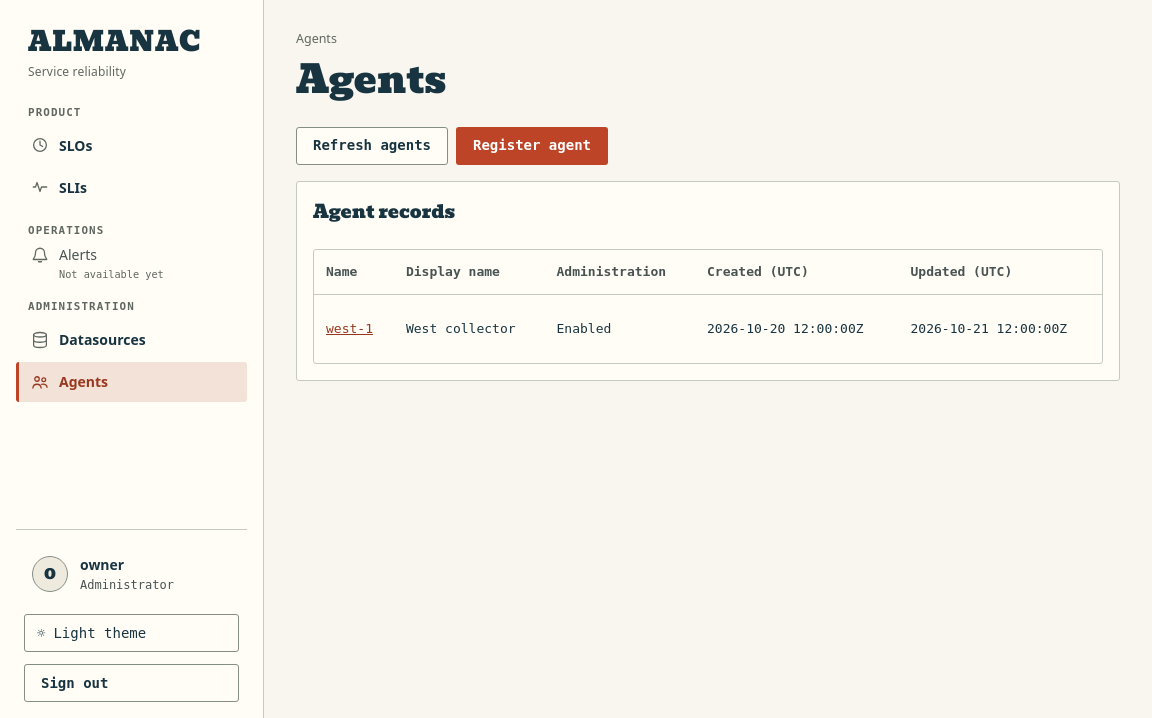
Scenario: agent administration screen › keeps known blockers visible when a later dependency page fails
Click the button "west-1" at (350, 329), box [326,307,373,351]
(page scrolled)
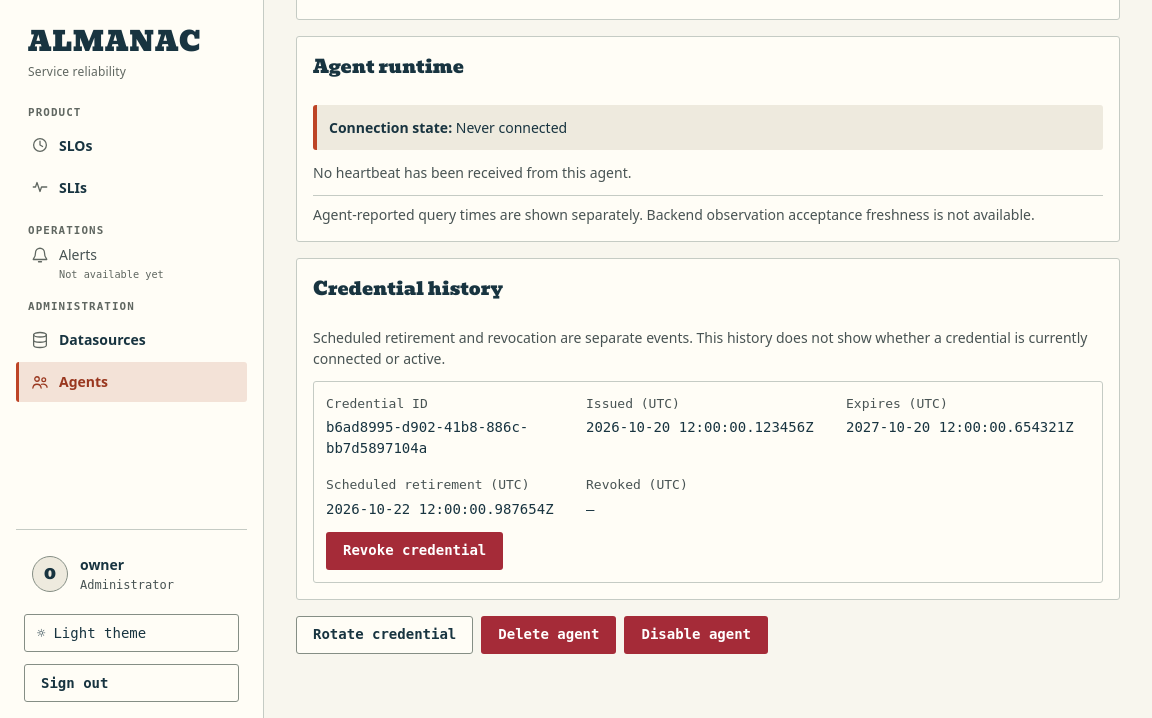
Click the button "Delete agent" at (549, 635), box [481,616,616,654]
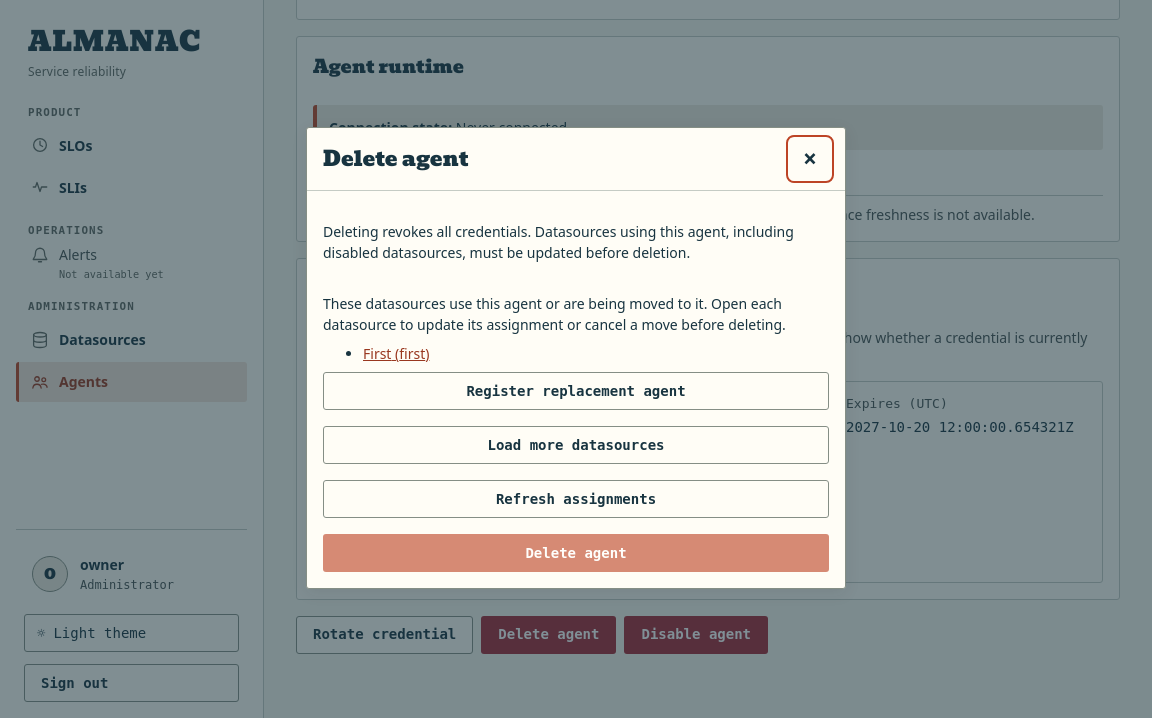
Now the link "First (first)" is shown, box [363,344,430,363]
Click the button "Load more datasources" at (576, 445), box [323,426,829,464]
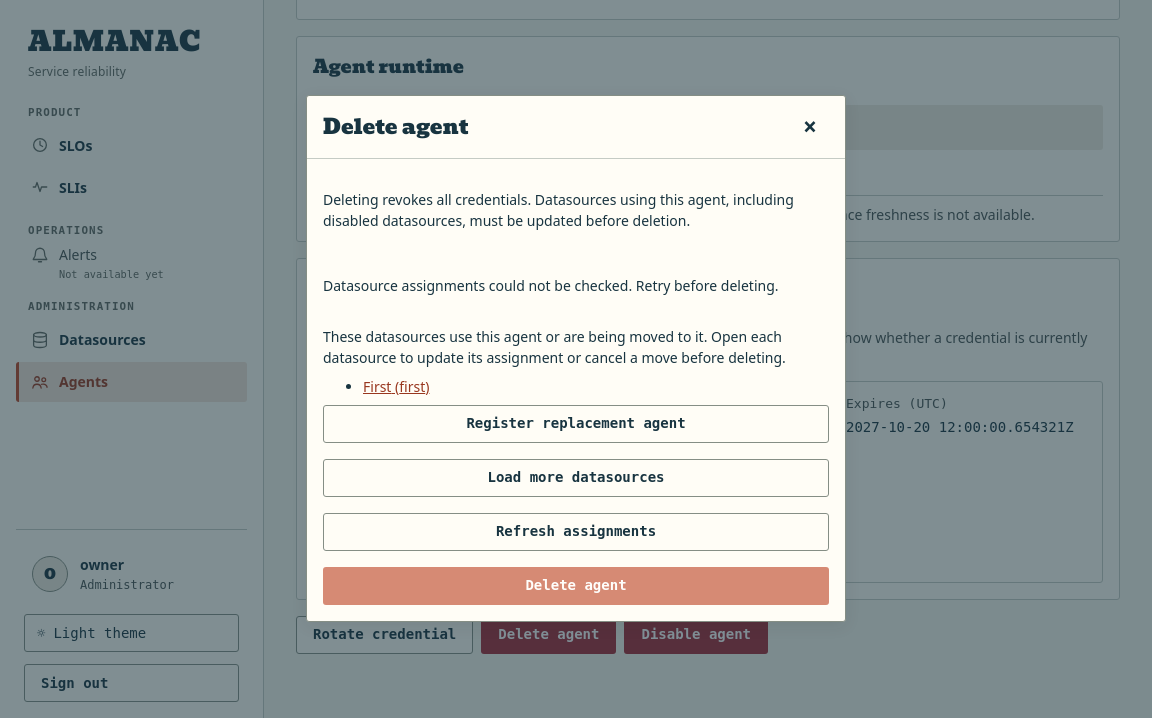
Now the link "First (first)" is shown, box [363,376,430,396]
Now the button "Delete agent" is disabled, box [323,566,829,604]
Now the message shows "could not be checked", box [323,276,778,294]
